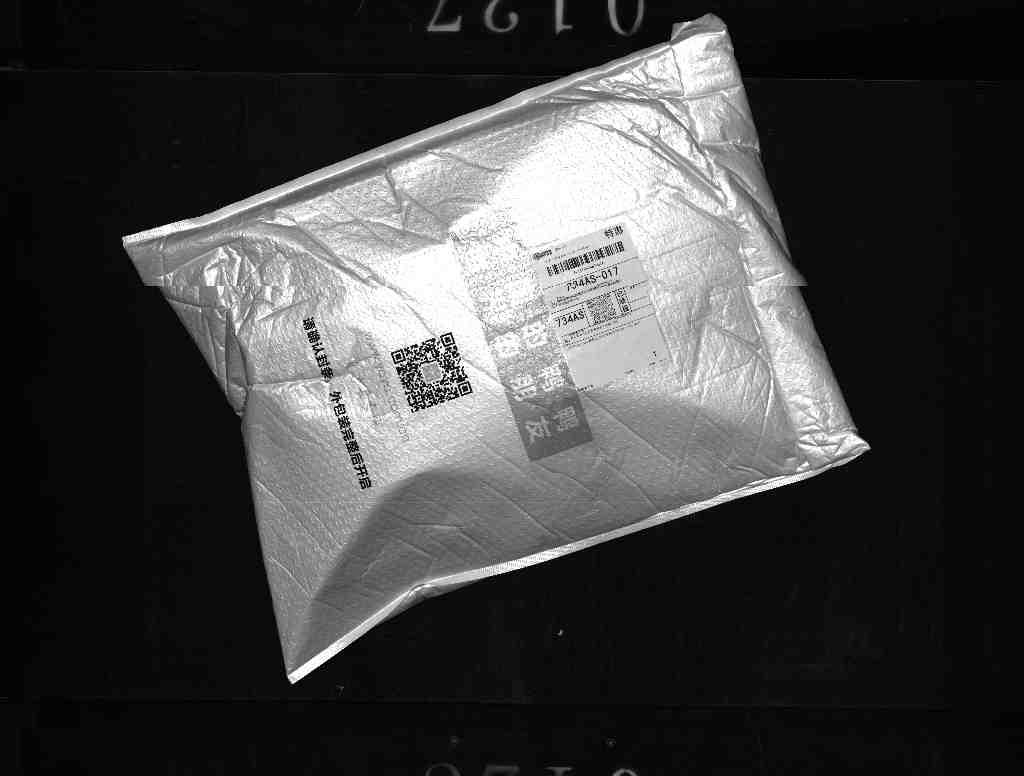box: (139, 30, 874, 670)
